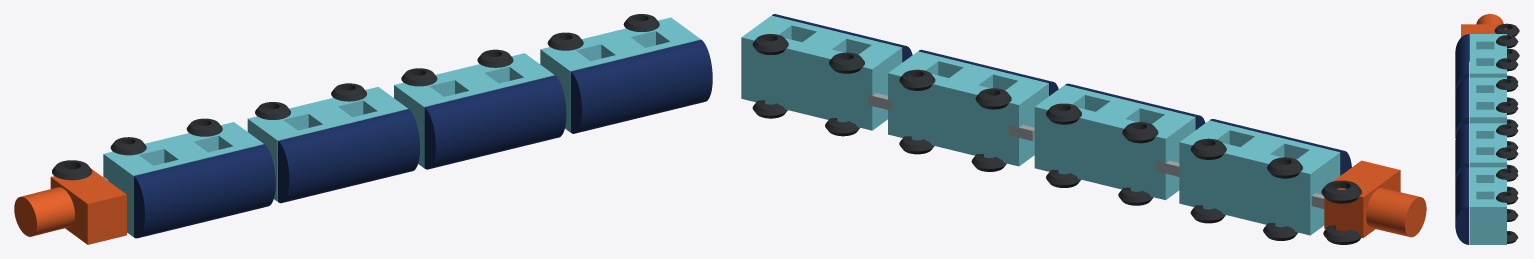
Rendered from tinker.obj.
The picture shows the model from 3 angles, left to right: view 1: azimuth 30°, elevation 25°; view 2: azimuth 150°, elevation 25°; view 3: azimuth 270°, elevation 25°; orthographic projection. The views are drawn at different scales.
Visible parts, largest first — view 1: group_0_1650274, group_0_7720667, group_0_14900002, group_0_2829873; view 2: group_0_7720667, group_0_2829873, group_0_14900002, group_0_1650274, group_0_10988977; view 3: group_0_7720667, group_0_1650274, group_0_2829873, group_0_14900002.
Part boxes in pixels (x1=…): group_0_1650274: x1=133, y1=39, x2=712, y2=238; group_0_7720667: x1=103, y1=17, x2=700, y2=236; group_0_14900002: x1=14, y1=169, x2=126, y2=244; group_0_2829873: x1=52, y1=14, x2=659, y2=180; group_0_7720667: x1=741, y1=15, x2=1340, y2=235; group_0_2829873: x1=752, y1=34, x2=1361, y2=244; group_0_14900002: x1=1324, y1=160, x2=1426, y2=237; group_0_1650274: x1=772, y1=14, x2=1351, y2=175; group_0_10988977: x1=868, y1=93, x2=1324, y2=208; group_0_7720667: x1=1470, y1=34, x2=1506, y2=244; group_0_1650274: x1=1455, y1=34, x2=1469, y2=244; group_0_2829873: x1=1494, y1=23, x2=1519, y2=243; group_0_14900002: x1=1461, y1=14, x2=1506, y2=61.
Bounding box in the file's own units: 338 × 38 × 46.
